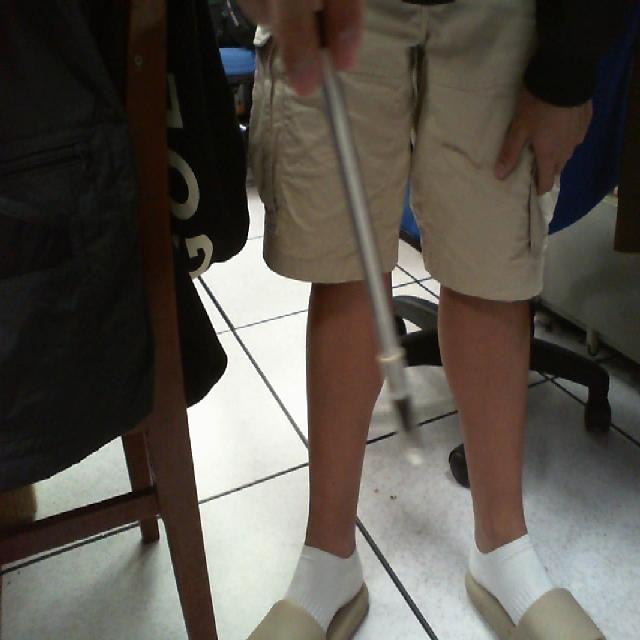Pen: (296, 0, 450, 513)
